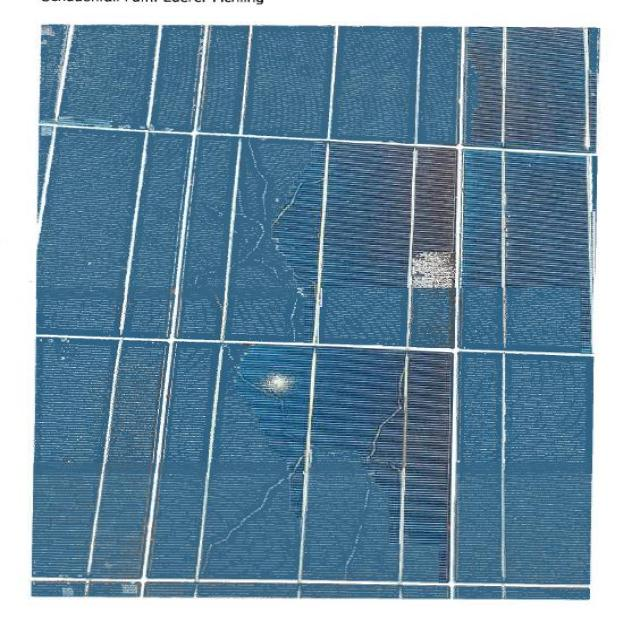Electrical-damage: (217, 138, 590, 359), (195, 346, 459, 582), (462, 24, 598, 152)
